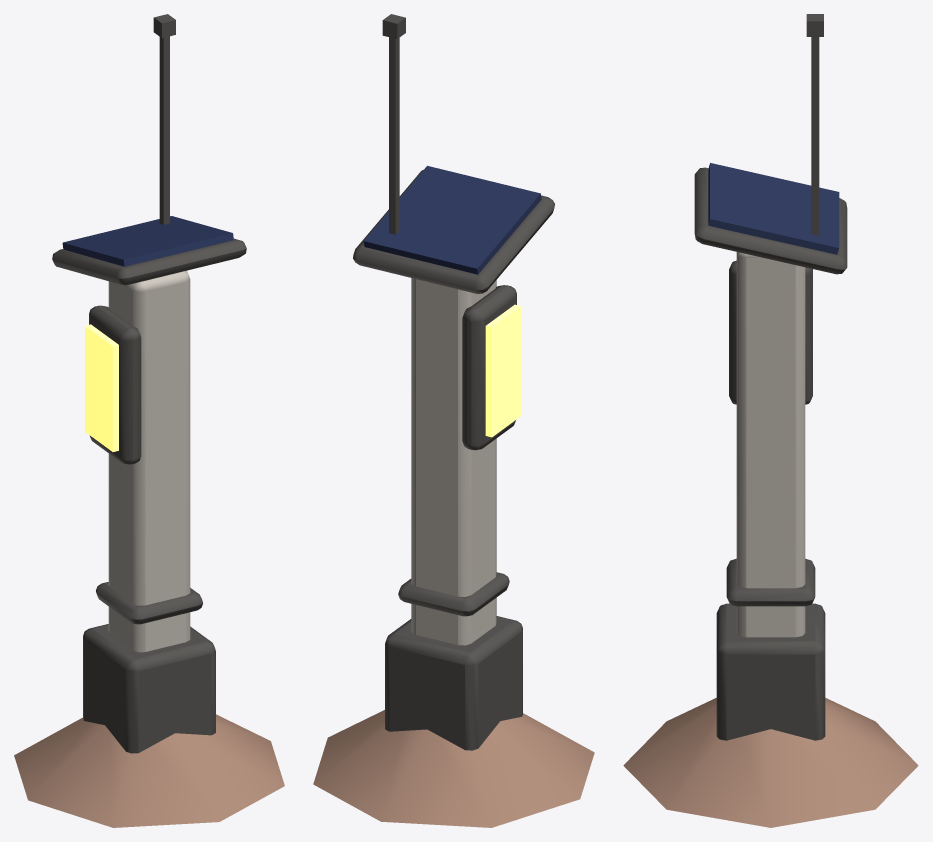
The model's file is marker.glb.
The picture shows the model from 3 angles, left to right: view 1: azimuth 30°, elevation 25°; view 2: azimuth 150°, elevation 25°; view 3: azimuth 270°, elevation 25°; orthographic projection. The views are drawn at different scales.
Visible parts, largest first — view 1: marker; view 2: marker; view 3: marker.
Boxes of the visible parts, x1,y1,x2,y2 form: marker: [14, 14, 284, 827]; marker: [313, 14, 594, 827]; marker: [623, 14, 918, 827].
Bounding box in the file's own units: 0.6 × 1.72 × 0.6.
